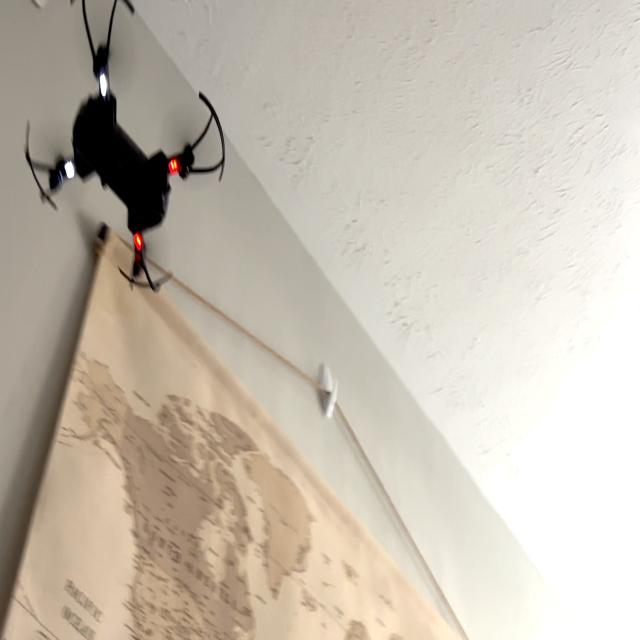drone: (16, 0, 242, 310)
